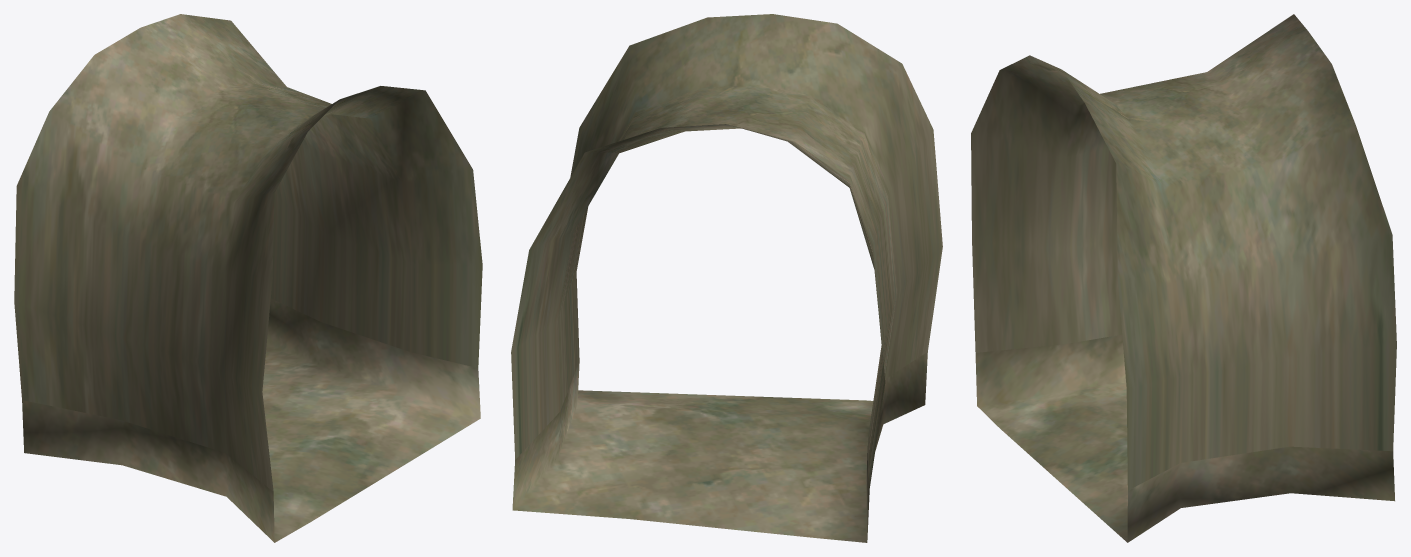
Rendered from EKH_CAVERNS_PS_CA_SMALL_CAVE_DOOR3941.fbx.
The picture shows the model from 3 angles, left to right: view 1: azimuth 30°, elevation 25°; view 2: azimuth 150°, elevation 25°; view 3: azimuth 270°, elevation 25°; orthographic projection. The views are drawn at different scales.
Parts seen in each view (by area): view 1: EKH_CAVERNS_PS_CA_SMALL_CAVE_DOOR3941; view 2: EKH_CAVERNS_PS_CA_SMALL_CAVE_DOOR3941; view 3: EKH_CAVERNS_PS_CA_SMALL_CAVE_DOOR3941.
Part boxes in pixels (x1,y1,x2,y2): EKH_CAVERNS_PS_CA_SMALL_CAVE_DOOR3941: (14,14,482,542); EKH_CAVERNS_PS_CA_SMALL_CAVE_DOOR3941: (511,14,942,542); EKH_CAVERNS_PS_CA_SMALL_CAVE_DOOR3941: (971,14,1396,542).
Bounding box in the file's own units: 31240 × 29437 × 29125.
1 material, 1 textured.
